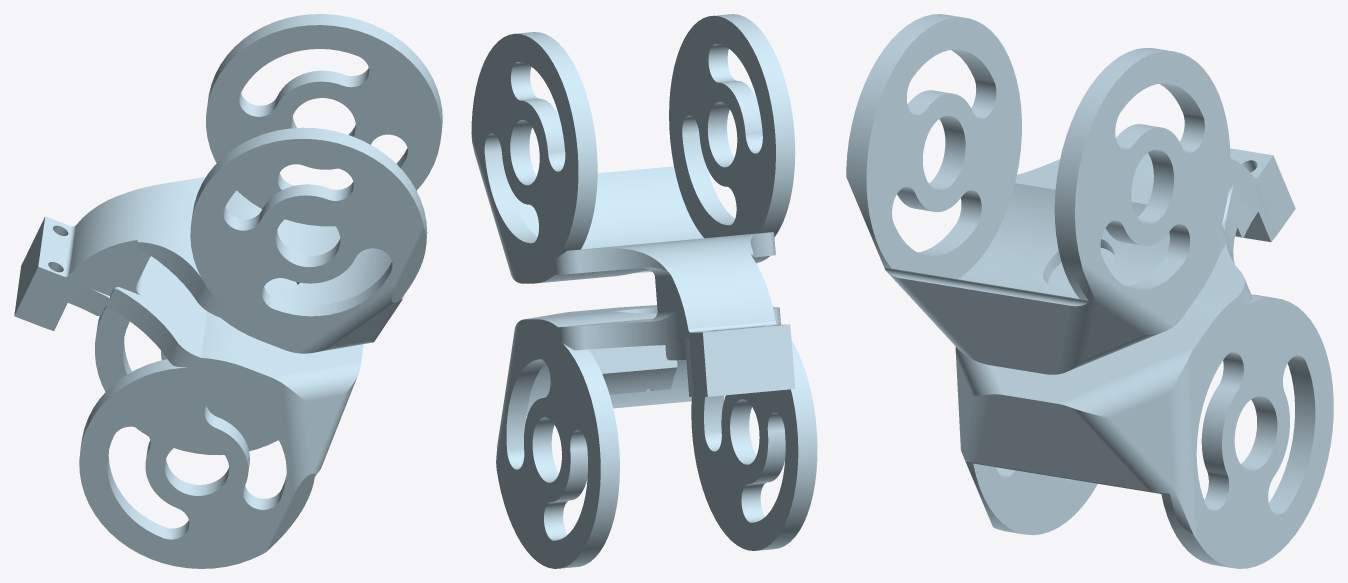
The picture shows the model from 3 angles, left to right: view 1: azimuth 30°, elevation 25°; view 2: azimuth 150°, elevation 25°; view 3: azimuth 270°, elevation 25°; orthographic projection. The views are drawn at different scales.
Visible parts, largest first — view 1: mesh3265, mesh3276, mesh3299, mesh3237, mesh3254, mesh3236, mesh3288, mesh3221, mesh3225, mesh3195, mesh3255, mesh3253 (+19 smaller); view 2: mesh3298, mesh3287, mesh3277, mesh3266, mesh3237, mesh3254, mesh3234, mesh3255, mesh3253, mesh3201, mesh3204, mesh3218 (+29 smaller); view 3: mesh3277, mesh3287, mesh3298, mesh3196, mesh3251, mesh3254, mesh3195, mesh3266, mesh3255, mesh3253, mesh3197, mesh3200 (+30 smaller).
Part boxes in pixels (bbox=[...]): mesh3265: bbox=[79, 356, 293, 568]; mesh3276: bbox=[190, 139, 423, 352]; mesh3299: bbox=[206, 25, 441, 226]; mesh3237: bbox=[69, 176, 205, 274]; mesh3254: bbox=[225, 190, 391, 305]; mesh3236: bbox=[14, 240, 150, 327]; mesh3288: bbox=[95, 306, 278, 455]; mesh3221: bbox=[119, 256, 207, 357]; mesh3225: bbox=[44, 282, 176, 359]; mesh3195: bbox=[246, 278, 363, 377]; mesh3255: bbox=[207, 14, 442, 140]; mesh3253: bbox=[191, 127, 427, 245]; mesh3298: bbox=[471, 33, 578, 283]; mesh3287: bbox=[497, 319, 600, 568]; mesh3277: bbox=[669, 15, 775, 238]; mesh3266: bbox=[691, 389, 798, 550]; mesh3237: bbox=[605, 234, 775, 328]; mesh3254: bbox=[510, 166, 703, 249]; mesh3234: bbox=[703, 324, 795, 396]; mesh3255: bbox=[516, 32, 597, 260]; mesh3253: bbox=[715, 14, 795, 236]; mesh3201: bbox=[561, 343, 619, 568]; mesh3204: bbox=[756, 340, 817, 550]; mesh3218: bbox=[583, 312, 693, 396]; mesh3277: bbox=[866, 17, 1021, 279]; mesh3287: bbox=[1188, 294, 1333, 568]; mesh3298: bbox=[1075, 51, 1230, 325]; mesh3196: bbox=[978, 394, 1147, 490]; mesh3251: bbox=[901, 278, 1069, 374]; mesh3254: bbox=[958, 183, 1169, 298]; mesh3195: bbox=[991, 320, 1209, 403]; mesh3266: bbox=[973, 463, 1097, 535]; mesh3255: bbox=[1054, 48, 1171, 300]; mesh3253: bbox=[846, 14, 965, 268]; mesh3197: bbox=[1057, 346, 1194, 417]; mesh3200: bbox=[1168, 359, 1197, 540].
Bounding box in the file's own units: 0.0732 × 0.0902 × 0.0713.
